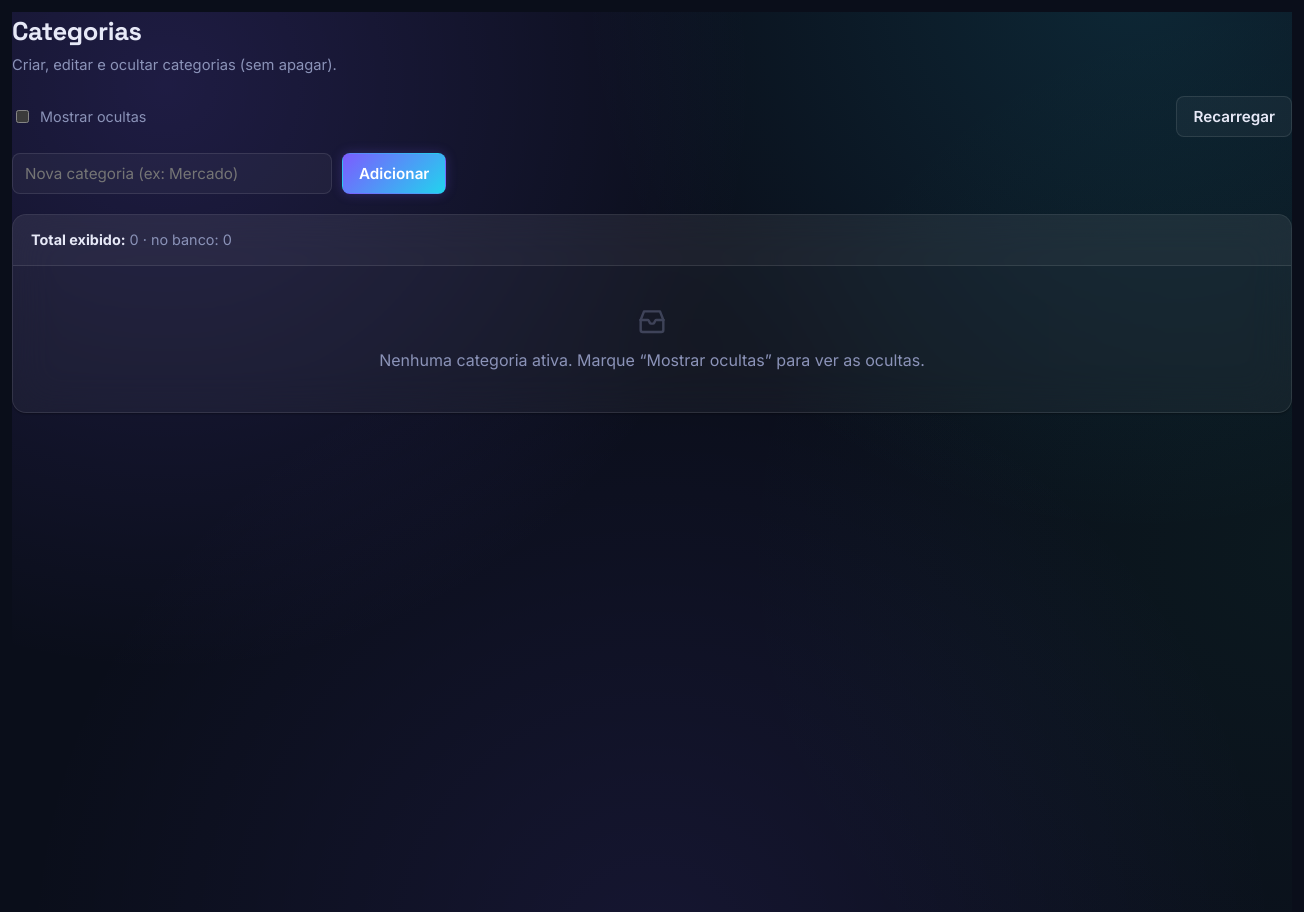
Test: Categories › cria uma nova categoria
Expected: the text "Nenhuma categoria ativa. Marque “Mostrar ocultas” para ver as ocultas." is shown, [379,306,925,370]
Type "Lazer" into the field with placeholder "Nova categoria (ex: Mercado)" at (172, 174), box [12,154,332,194]
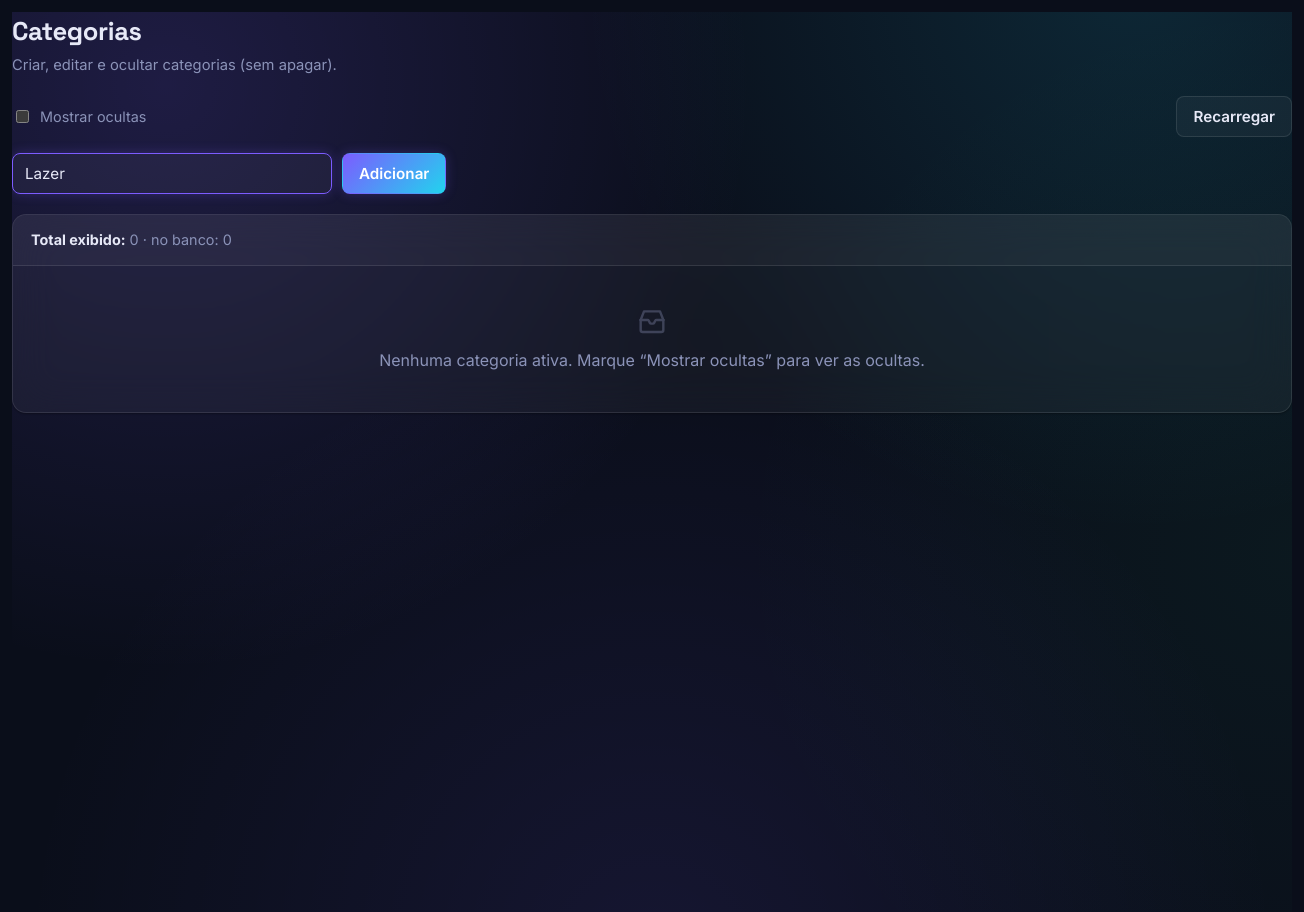
Click the button "Adicionar" at (394, 174), box [342,154,446,194]
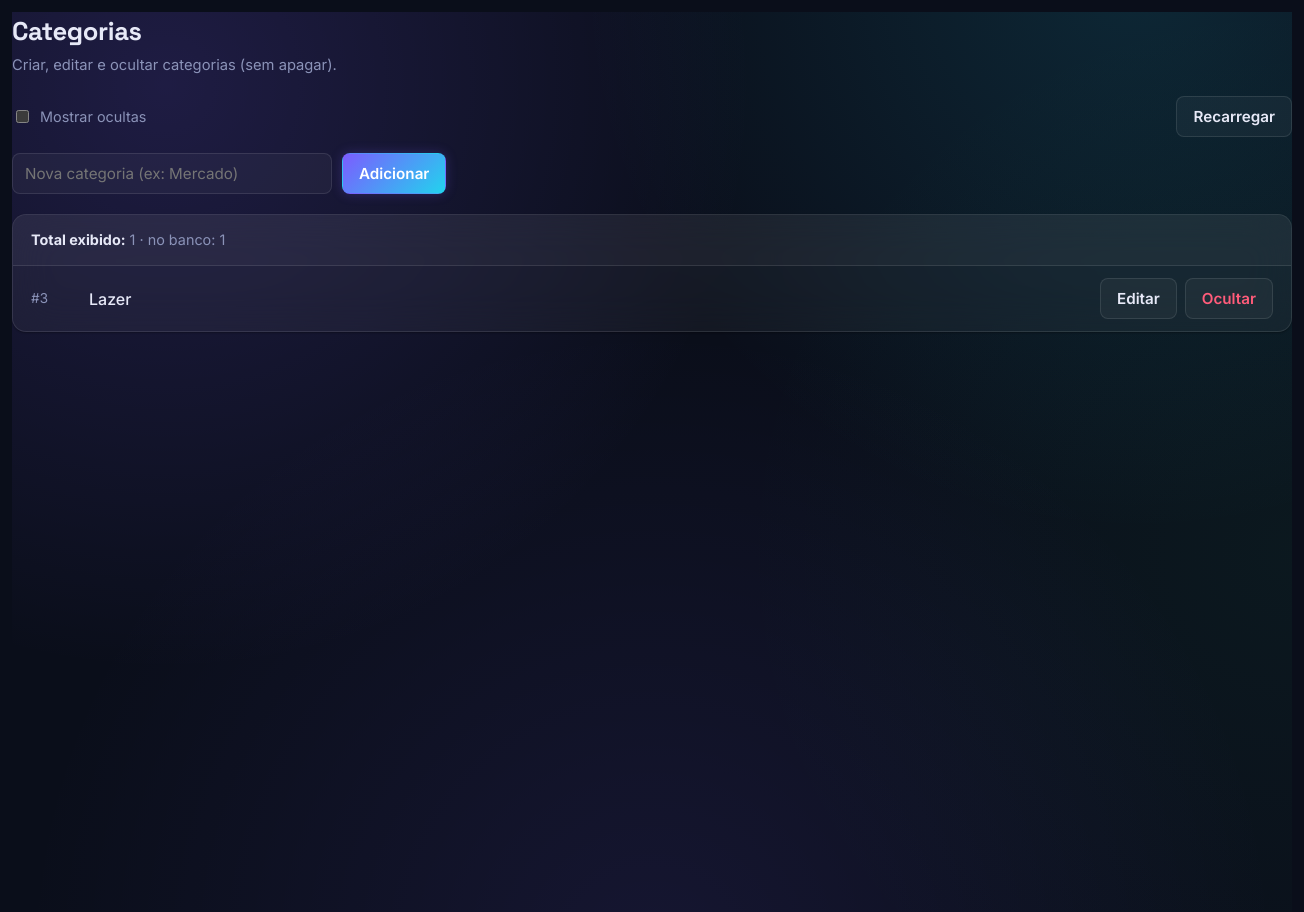
Expected: the text "Lazer" is shown, [89,289,131,309]
